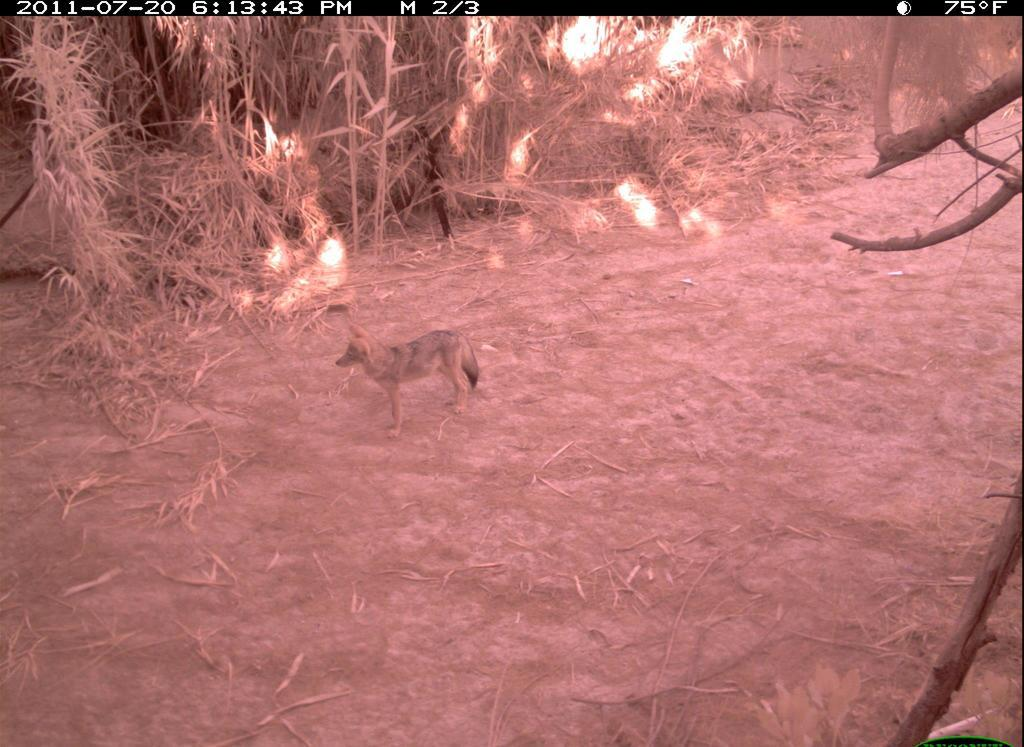coyote: (337, 317, 500, 442)
